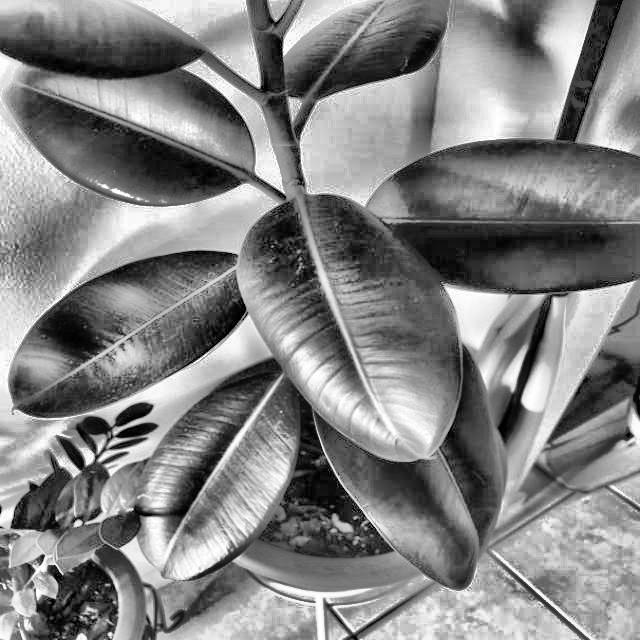plants: (11, 0, 632, 553), (0, 467, 173, 616)
